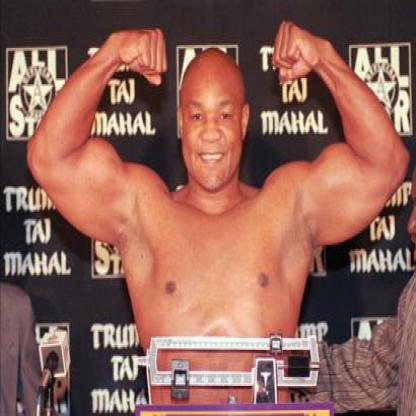face: (183, 51, 245, 194)
